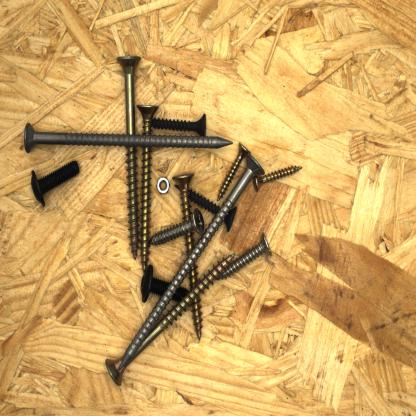screw: (116, 151, 267, 377), (105, 252, 235, 387), (20, 120, 235, 156), (115, 51, 143, 262), (172, 170, 204, 343), (136, 100, 159, 273), (175, 184, 240, 231), (218, 231, 274, 284), (27, 158, 82, 209), (147, 207, 207, 250), (214, 140, 252, 203), (139, 263, 194, 306), (147, 112, 211, 139), (251, 162, 305, 192)
